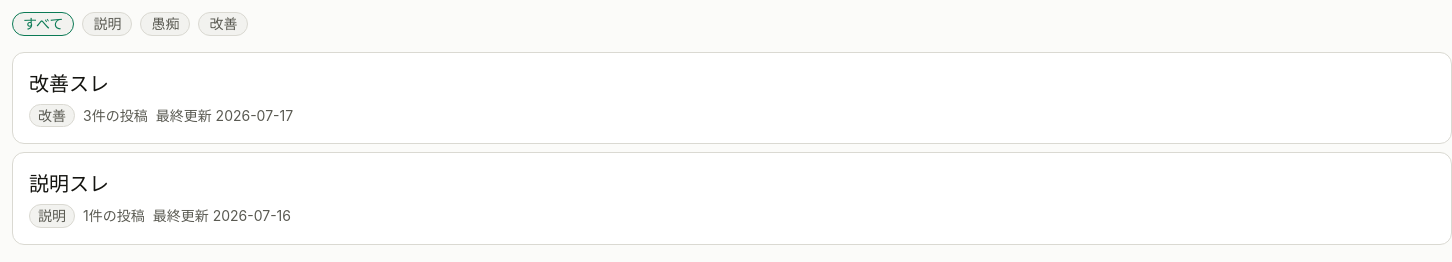
Test case: BoardThreadsNode — c9 wave1 KNW Slice1 › clicking a filter chip narrows the list to that board_kind
The width and height of the screenshot is (1452, 262).
Expected: the text "改善スレ" is shown, [29,72,109,96]
What coordinates should you click on to do the following:
click the button "説明"
I would click on:
 (108, 24)
Its box is [82,12,132,36].
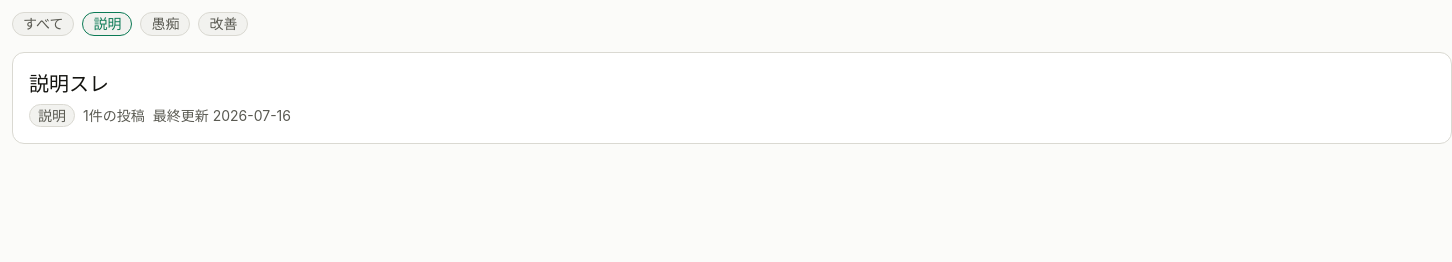
Expected: the text "説明スレ" is shown, [29,72,109,96]
Expected: the link "改善スレ" is gone
